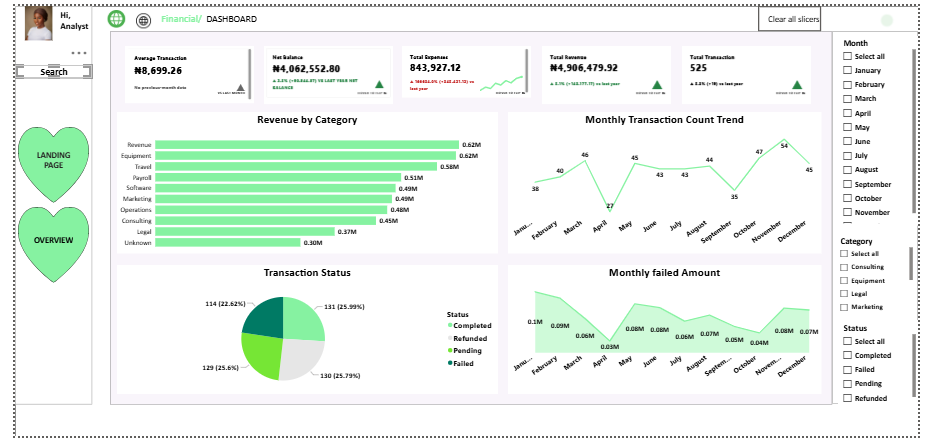

Layout of this report page (visuals, bound fields, positions):
{"tool":"powerbi","page":{"name":"OVERVIEW","canvas":[2100,1000],"ordinal":1},"visuals":[{"type":"shape","box":[0,0,2797.8,1486.7],"z":0},{"type":"shape","box":[220.4,57.1,1679.6,869.4],"z":1000},{"type":"shape","box":[0,0,179.6,926.5],"z":2000},{"type":"shape","box":[1900,59.2,200,867.3],"z":3000},{"type":"htmlContent443BE3AD55E043BF878BED274D3A6855","title":"Dark HTML Content","fields":{"content":["Html measures.HTML Average Transaction Card"]},"box":[255.1,93.9,300,134.7],"z":4000},{"type":"htmlContent443BE3AD55E043BF878BED274D3A6855","title":"Dark HTML Content","fields":{"content":["Html measures.HTML Net Balance Card"]},"box":[579.6,93.9,300,134.7],"z":5000},{"type":"htmlContent443BE3AD55E043BF878BED274D3A6855","title":"Dark HTML Content","fields":{"content":["Html measures.HTML Total Expenses Card"]},"box":[900,93.9,300,134.7],"z":6000},{"type":"htmlContent443BE3AD55E043BF878BED274D3A6855","title":"Dark HTML Content","fields":{"content":["Html measures.HTML Total Revenue Card"]},"box":[1224.5,93.9,300,134.7],"z":7000},{"type":"htmlContent443BE3AD55E043BF878BED274D3A6855","title":"Dark HTML Content","fields":{"content":["Html measures.HTML Total Transaction Card"]},"box":[1551,93.9,300,134.7],"z":8000},{"type":"barChart","title":"Revenue by Category ","fields":{"Category":["Financial.Category "],"Y":["Measure overview.Total Revenue"]},"box":[236.7,246.9,885.7,328.6],"z":9000},{"type":"lineChart","title":"Monthly Transaction Count Trend","fields":{"Category":["Date Table.Month"],"Y":["Measure overview.Total Transaction"]},"box":[1146.9,246.9,728.6,328.6],"z":10000},{"type":"pieChart","title":"Transaction Status","fields":{"Category":["Financial.Status"],"Y":["Measure overview.Total Transaction"]},"box":[236.7,602,885.7,300],"z":11000},{"type":"textbox","title":"Financial/","box":[334.7,14.3,114.3,28.6],"z":12000},{"type":"image","box":[210.2,8.2,53.1,40.8],"z":13000},{"type":"image","box":[280.8,0,53.8,48.1],"z":14000},{"type":"actionButton","title":"Dark Button","box":[1728.6,0,146.9,59.2],"z":15000},{"type":"textbox","title":"DASHBOARD","box":[438.8,20.4,140.8,28.6],"z":16000},{"type":"image","box":[0,0,110.2,79.6],"z":17000},{"type":"textbox","title":"Hi, Analyst","box":[100,6.1,79.6,57.1],"z":18000},{"type":"stackedAreaChart","title":"Monthly failed Amount","fields":{"Category":["Date Table.Month"],"Y":["Measure overview.Failed Amount"]},"box":[1146.9,602,728.6,300],"z":19000},{"type":"slicer","title":"Dark Slicer","fields":{"Values":["Date Table.Month"]},"box":[1914.3,69.4,185.7,440.8],"z":20000},{"type":"slicer","title":"Dark Slicer","fields":{"Values":["Financial.Category "]},"box":[1906.1,530.6,185.7,189.8],"z":21000},{"type":"slicer","title":"Dark Slicer","fields":{"Values":["Financial.Status"]},"box":[1914.3,730.6,185.7,195.9],"z":22000},{"type":"actionButton","title":"Search","box":[0,130.8,178.8,219.2],"z":23500},{"type":"actionButton","title":"Dark Image button ","box":[1981.4,0,88.4,65.1],"z":24500},{"type":"pageNavigator","box":[0,367.3,165.1,362.8],"z":39000}]}

Visuals, with their boxes in screenshot pixels (x1, y1, x2, y2), scaled from the page's 2100x1000 canvas onto the 932x447 screenshot:
shape: region(0, 0, 931, 446)
shape: region(98, 26, 843, 414)
shape: region(0, 0, 80, 414)
shape: region(843, 26, 931, 414)
"Dark HTML Content" htmlContent443BE3AD55E043BF878BED274D3A6855: region(113, 42, 246, 102)
"Dark HTML Content" htmlContent443BE3AD55E043BF878BED274D3A6855: region(257, 42, 390, 102)
"Dark HTML Content" htmlContent443BE3AD55E043BF878BED274D3A6855: region(399, 42, 533, 102)
"Dark HTML Content" htmlContent443BE3AD55E043BF878BED274D3A6855: region(543, 42, 677, 102)
"Dark HTML Content" htmlContent443BE3AD55E043BF878BED274D3A6855: region(688, 42, 821, 102)
"Revenue by Category " barChart: region(105, 110, 498, 257)
"Monthly Transaction Count Trend" lineChart: region(509, 110, 832, 257)
"Transaction Status" pieChart: region(105, 269, 498, 403)
"Financial/" textbox: region(149, 6, 199, 19)
image: region(93, 4, 117, 22)
image: region(125, 0, 148, 22)
"Dark Button" actionButton: region(767, 0, 832, 26)
"DASHBOARD" textbox: region(195, 9, 257, 22)
image: region(0, 0, 49, 36)
"Hi, Analyst" textbox: region(44, 3, 80, 28)
"Monthly failed Amount" stackedAreaChart: region(509, 269, 832, 403)
"Dark Slicer" slicer: region(850, 31, 931, 228)
"Dark Slicer" slicer: region(846, 237, 928, 322)
"Dark Slicer" slicer: region(850, 327, 931, 414)
"Search" actionButton: region(0, 58, 79, 156)
"Dark Image button " actionButton: region(879, 0, 919, 29)
pageNavigator: region(0, 164, 73, 326)
